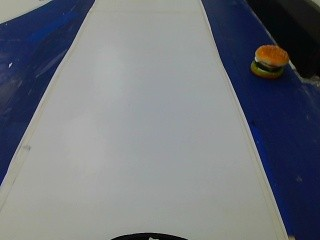burger: (244, 40, 292, 84)
